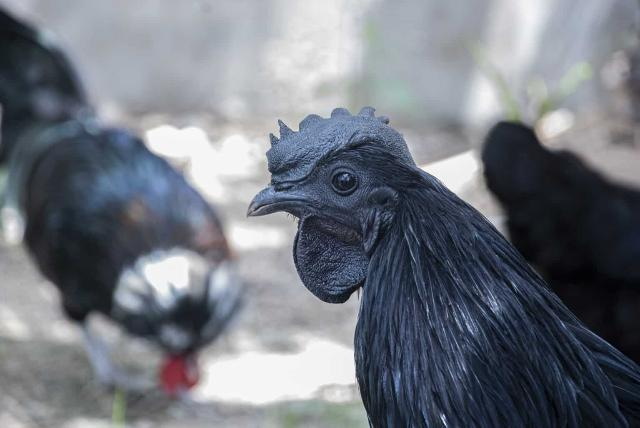Chicken: (248, 105, 640, 428), (0, 0, 244, 428)
